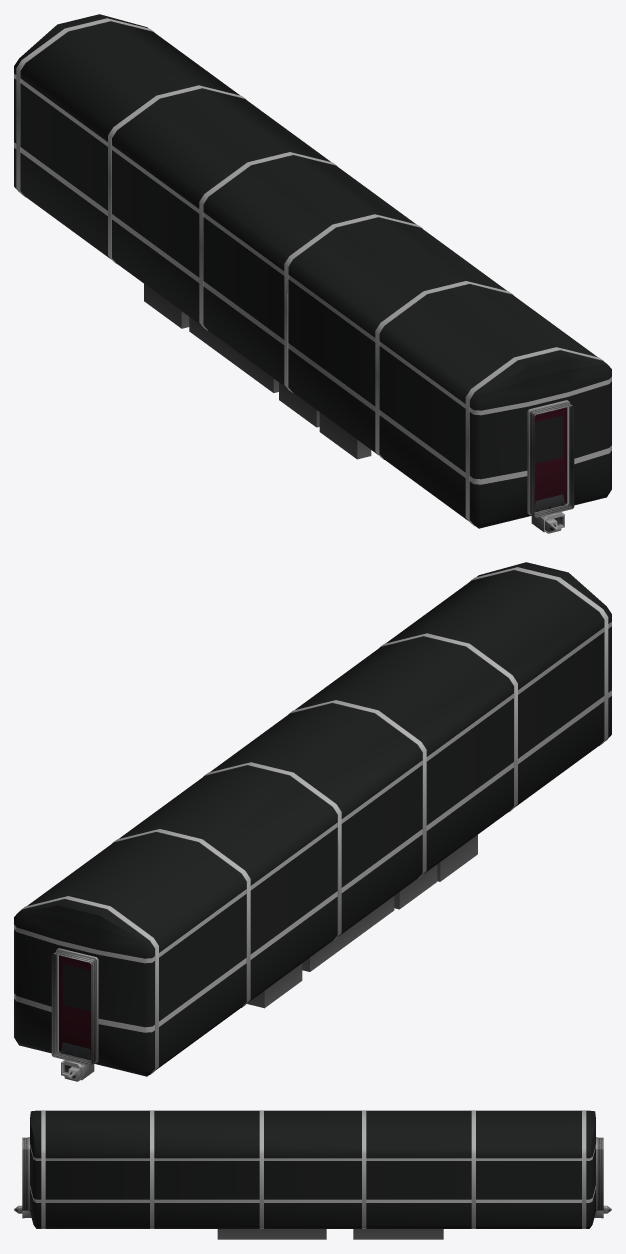
3 renders of one model, top to bottom at view 1: azimuth 30°, elevation 25°; view 2: azimuth 150°, elevation 25°; view 3: azimuth 270°, elevation 25°, orthographic. The views are drawn at different scales.
Parts seen in each view (by area): view 1: obj1; view 2: obj1; view 3: obj1.
Part boxes in pixels (left/top/right/bottom): obj1: left=14, top=14, right=611, bottom=533; obj1: left=14, top=562, right=611, bottom=1081; obj1: left=14, top=1110, right=611, bottom=1239.
Bounding box in the file's own units: 6.56 × 8.06 × 40.64.
9 materials, 9 textured.
